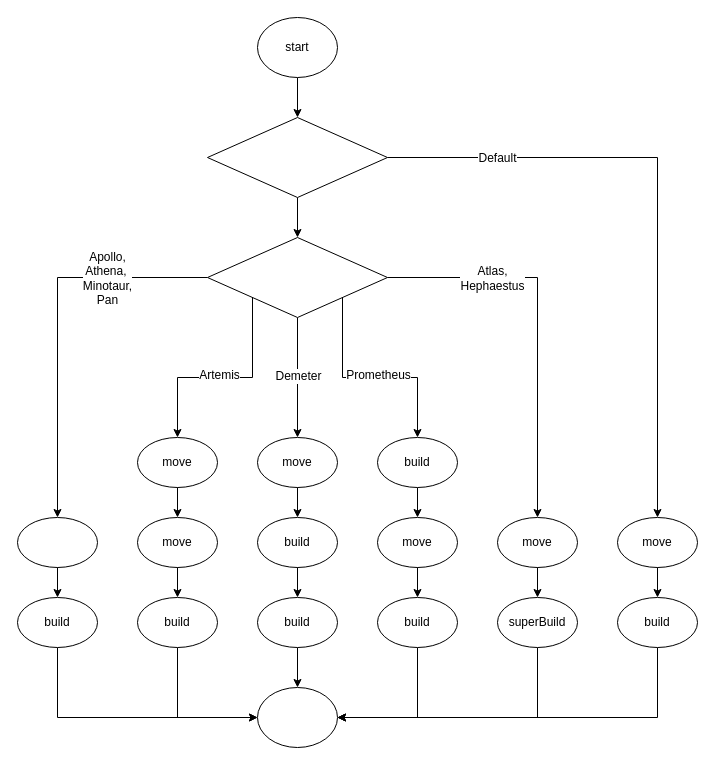
Image size: 715x765. Some labels were removed from this diagram. The centre of each missing label's shape, as x and y in pixels:
"do you want to use the God Power?": pixel 297 157
endTurn: pixel 297 717
superMove: pixel 57 542
switch(divinity): pixel 297 277
